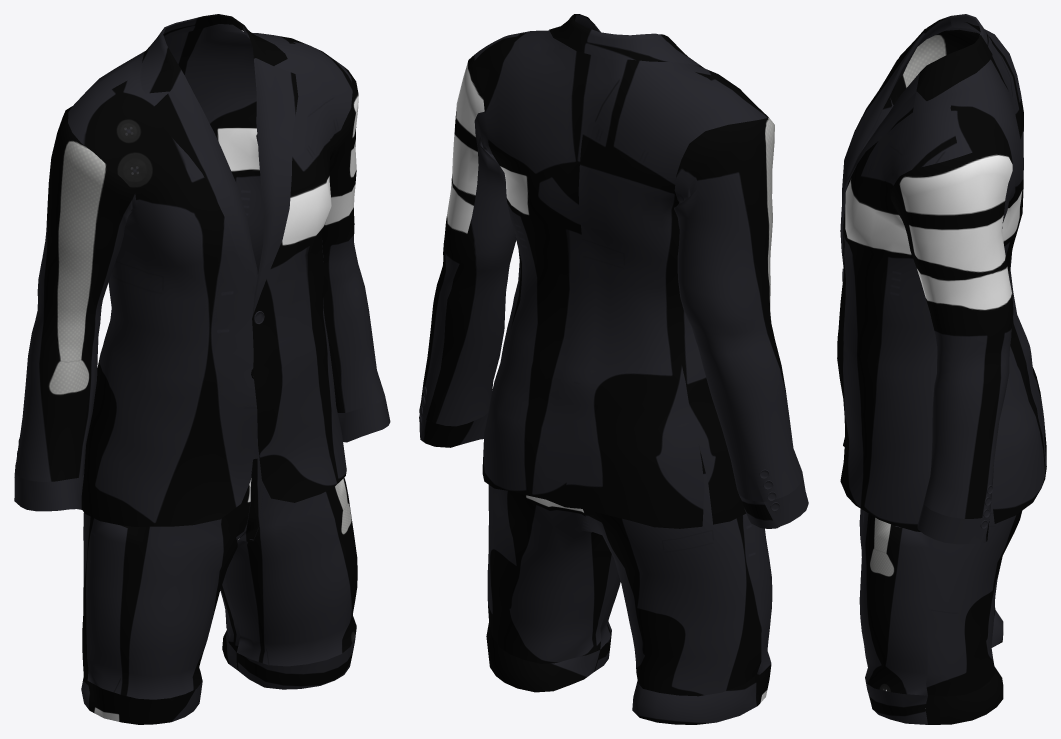
File: blazer_material_shorts.glb
3 views of the same model, side by side, from view 1: azimuth 30°, elevation 25°; view 2: azimuth 150°, elevation 25°; view 3: azimuth 270°, elevation 25° (orthographic). The views are drawn at different scales.
Parts seen in each view (by area): view 1: all; view 2: all; view 3: all.
Boxes of the visible parts, x1=… form: all: x1=14, y1=14, x2=390, y2=724; all: x1=419, y1=14, x2=808, y2=724; all: x1=837, y1=14, x2=1046, y2=724.
Size of the model in its own units: 0.2917 by 0.4979 by 0.1483.
Materials: 2 (2 with a texture image).
